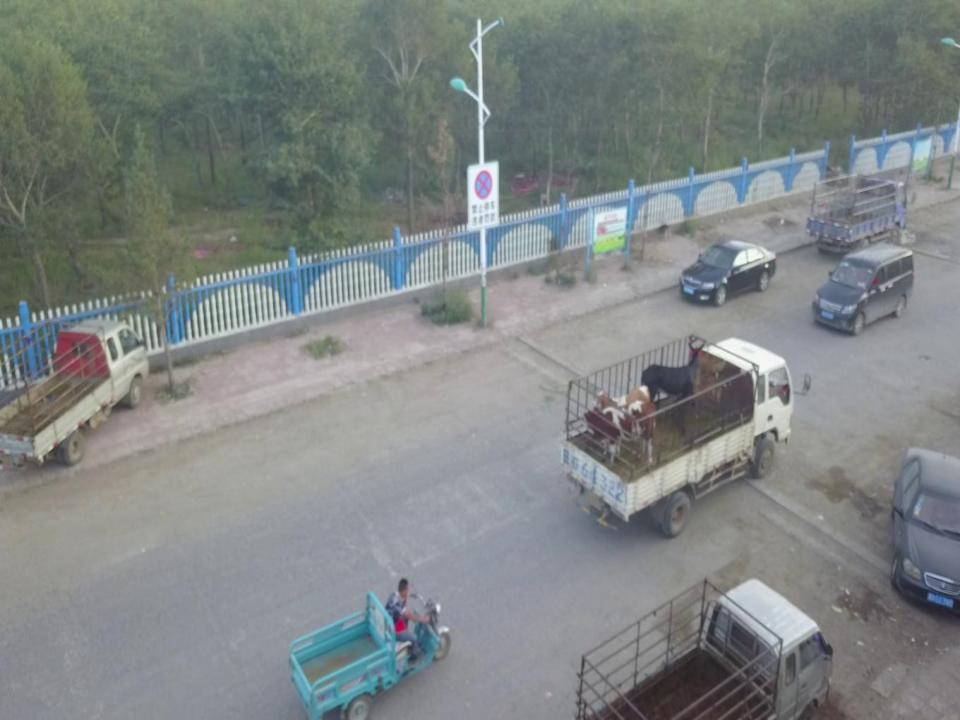car: (889, 423, 960, 608), (807, 246, 916, 335), (676, 229, 780, 308)
truck: (554, 322, 811, 544), (550, 576, 834, 719), (2, 317, 158, 470), (799, 162, 919, 252)
